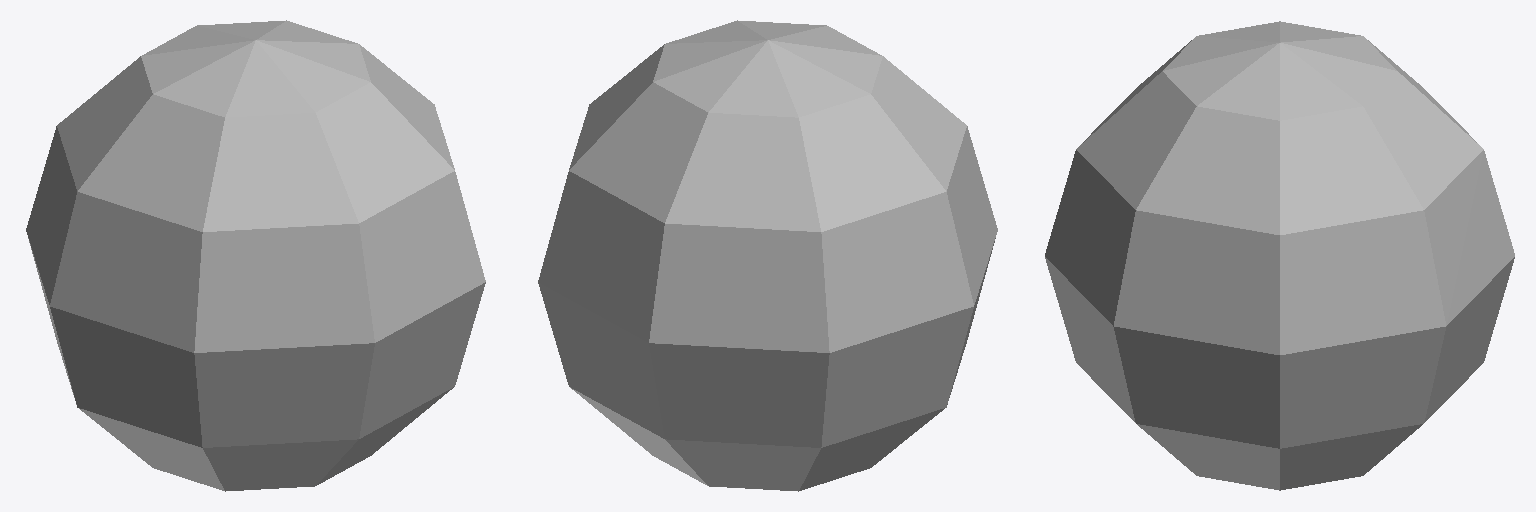
URDF robot description (root):
<?xml version='1.0' encoding='utf-8'?>
<robot name="root">
  <link name="link_001">
    <visual>
      <origin xyz="0 0 0" rpy="0 0 0" />
      <geometry>
        <mesh filename="5b5e55b4ca111fb0986c729b9c9184821d003a90809d8fa390322dc3b8b94147_scale_4998.stl" scale="1.0000E+00 1.0000E+00 1.0000E+00" />
      </geometry>
      <material name="">
        <color rgba="7.50E-01 7.50E-01 7.50E-01 1" />
      </material>
    </visual>
    <collision>
      <origin xyz="0 0 0" rpy="0 0 0" />
      <geometry>
        <mesh filename="5b5e55b4ca111fb0986c729b9c9184821d003a90809d8fa390322dc3b8b94147_scale_4998.stl" scale="1.0000E+00 1.0000E+00 1.0000E+00" />
      </geometry>
    </collision>
  </link>
</robot>

--- Facts derived from the render (not from the file) ---
Views: 3 orthographic renders of the robot side by side, from view 1: azimuth 30°, elevation 25°; view 2: azimuth 150°, elevation 25°; view 3: azimuth 270°, elevation 25°.
Robot: root — 1 links, 0 joints (none); root link link_001; default pose: every joint at zero.
Visible links, largest first — view 1: link_001; view 2: link_001; view 3: link_001.
Boxes of the visible links, bbox=[...] form: link_001: bbox=[26, 20, 485, 491]; link_001: bbox=[538, 20, 997, 491]; link_001: bbox=[1045, 21, 1514, 490].
Size in the robot's own frame: 0.1249 by 0.1249 by 0.1249 metres.
Meshes: 1 distinct files referenced, 1 mesh visuals loaded (1 binary STL).
